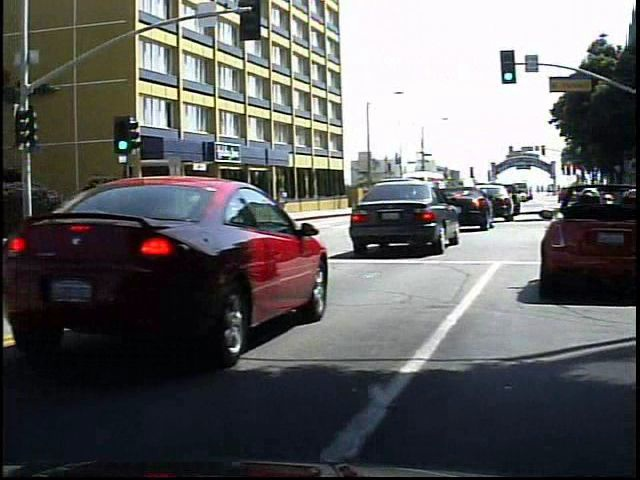person: (272, 183, 287, 212)
